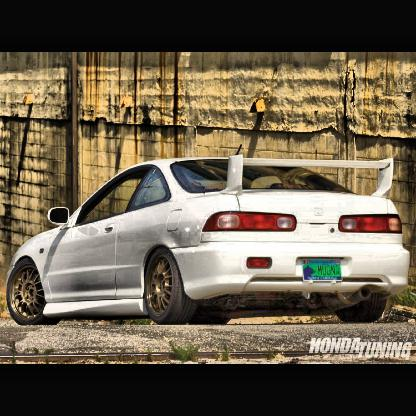Acura Integra Type R 2001: (6, 154, 411, 328)
